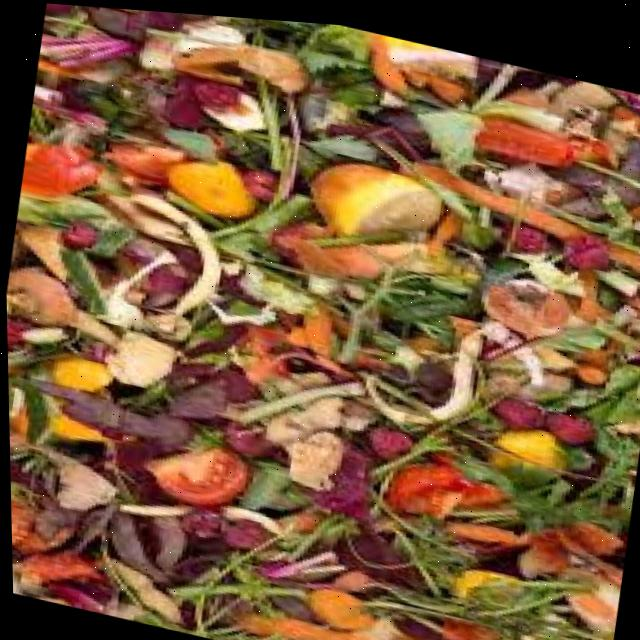Wet: (0, 0, 640, 640), (331, 429, 508, 554), (273, 141, 447, 256), (134, 124, 282, 246), (157, 15, 331, 110), (468, 392, 596, 500), (117, 417, 251, 514), (277, 558, 430, 640)
